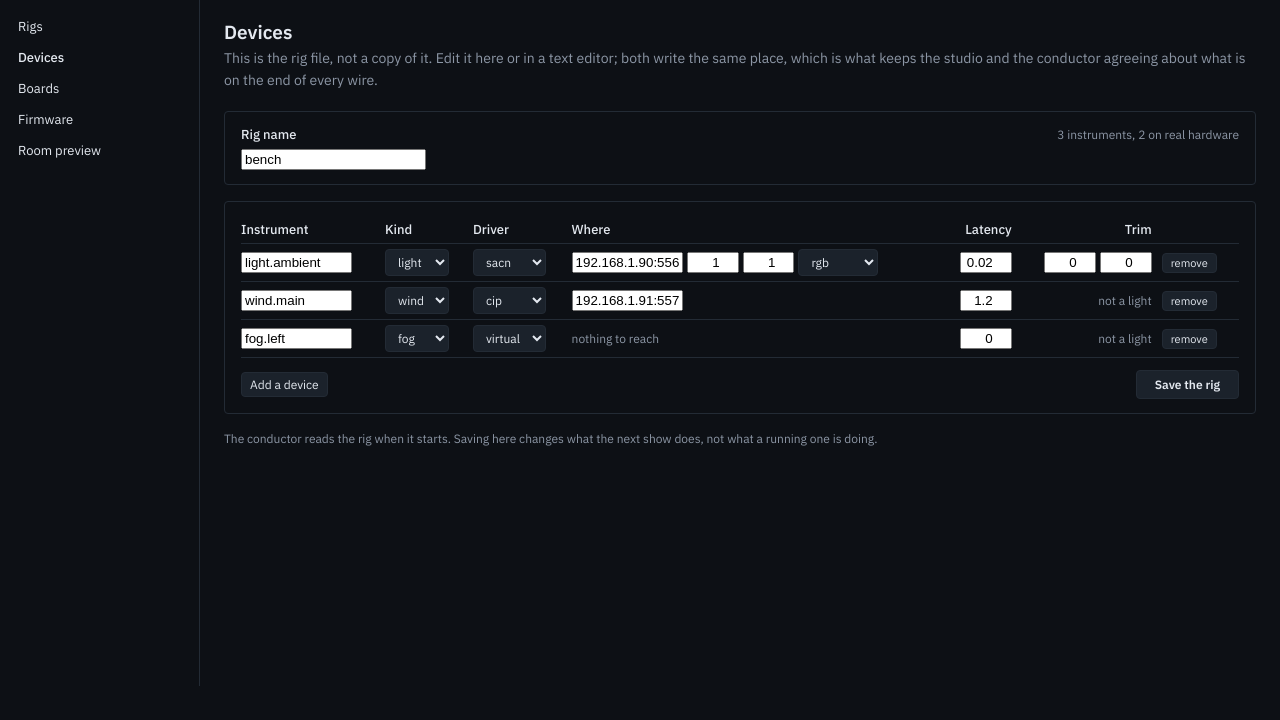
Test: devices › says something useful even when the server says nothing
The image size is (1280, 720).
Expected: the field named "Instrument 1 id" is shown, [241,252,352,273]
Replace the text in the field named "Instrument 2 address" with "10.0.0.1:5570" at (627, 301), box [572,290,683,311]
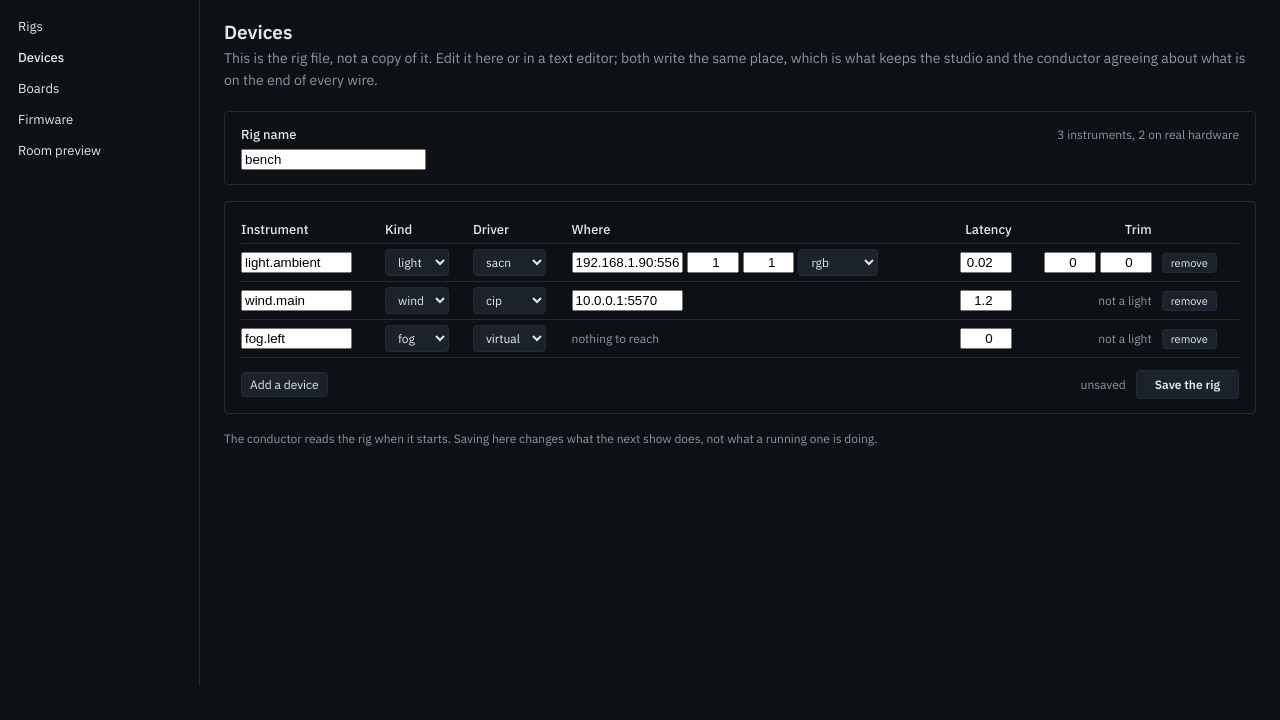
Click the button "Save the rig" at (1187, 385), box [1136,370,1239,399]
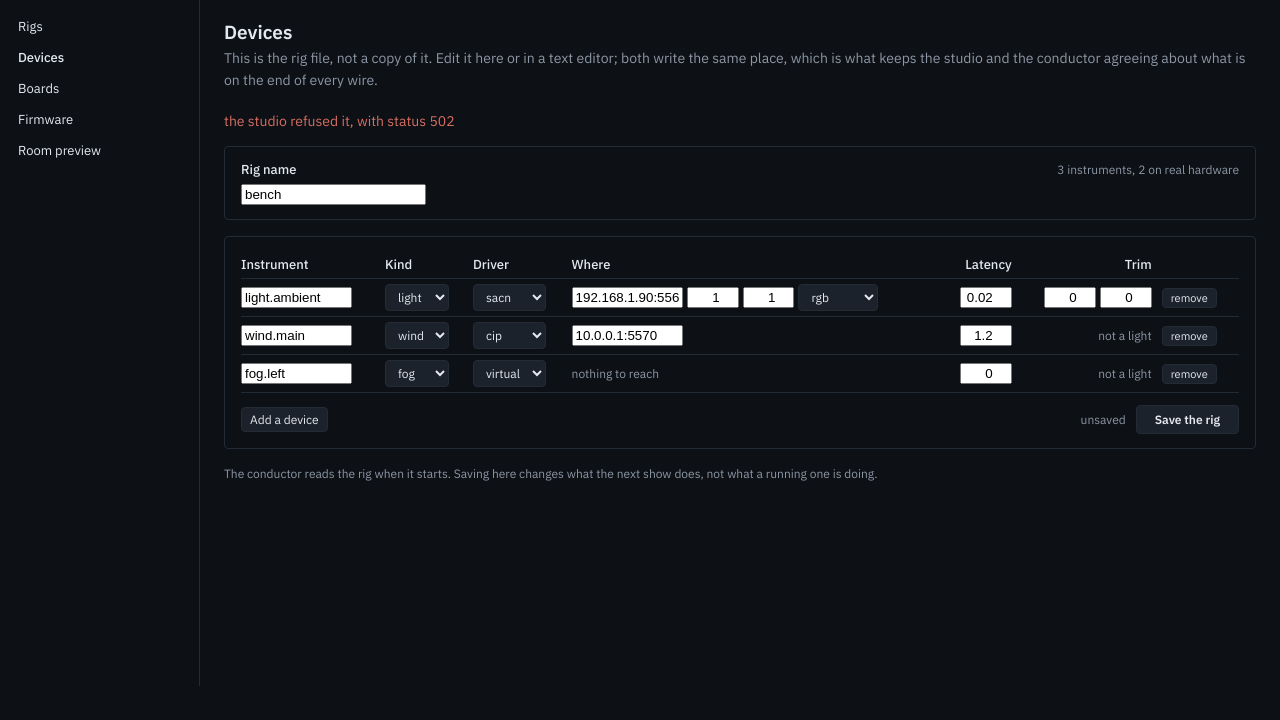
Result: the text "the studio refused it, with status 502" is shown at [224,112,455,130]
